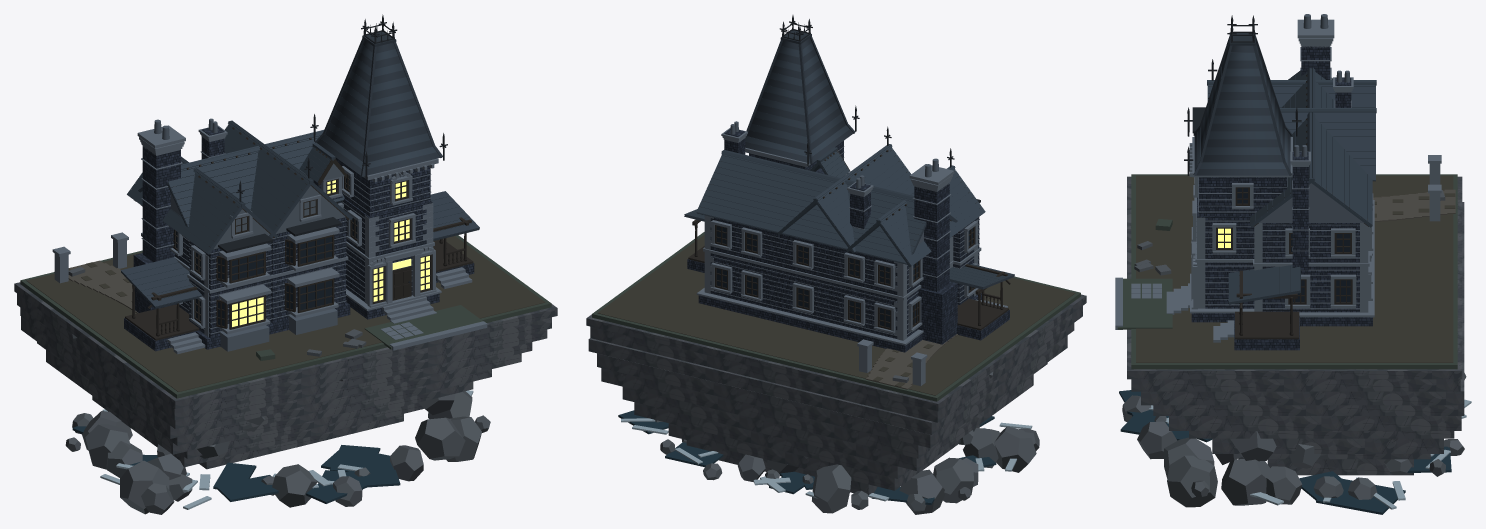
File: casa-da-costa-noturna.glb
3 views of the same model, side by side, from view 1: azimuth 30°, elevation 25°; view 2: azimuth 150°, elevation 25°; view 3: azimuth 270°, elevation 25° (orthographic). The views are drawn at different scales.
Visible parts, largest first — view 1: terra-batida, rochedo (×10), fiada-do-corucheu (×9), estrato-1, borda-rochosa, estrato-3, estrato-2, estrato-5, terreno, estrato-4, pocas-de-mar (×4), fuste-chamine (+14 smaller); view 2: terra-batida, fiada-de-telhas (×11), rochedo (×6), estrato-3, estrato-2, estrato-1, estrato-5, fiada-do-corucheu (×8), borda-rochosa, parede-pedra, estrato-4, terreno (+13 smaller); view 3: terra-batida, rochedo (×9), fiada-do-corucheu (×13), borda-rochosa, estrato-2, estrato-4, estrato-1, terreno, fiada-de-telhas (×7), estrato-3, estrato-6, parede-torre-3 (+22 smaller).
Part boxes in pixels (x1,y1,x2,y2): terra-batida: [26, 236, 545, 391]; rochedo (×10): [85, 391, 481, 514]; fiada-do-corucheu (×9): [317, 90, 440, 176]; estrato-1: [17, 293, 551, 420]; borda-rochosa: [14, 282, 557, 408]; estrato-3: [21, 316, 532, 438]; estrato-2: [20, 307, 547, 428]; estrato-5: [46, 350, 491, 454]; terreno: [20, 235, 551, 398]; estrato-4: [37, 342, 521, 445]; pocas-de-mar (×4): [213, 446, 400, 501]; fuste-chamine: [142, 147, 180, 262]; terra-batida: [597, 235, 1075, 395]; fiada-de-telhas (×11): [696, 149, 926, 263]; rochedo (×6): [737, 426, 1036, 514]; estrato-3: [597, 335, 1067, 448]; estrato-2: [588, 323, 1074, 434]; estrato-1: [590, 306, 1082, 422]; estrato-5: [622, 374, 1033, 470]; fiada-do-corucheu (×8): [745, 90, 853, 163]; borda-rochosa: [586, 294, 1086, 411]; parede-pedra: [710, 253, 918, 338]; estrato-4: [601, 363, 1047, 458]; terreno: [592, 232, 1080, 401]; terra-batida: [1136, 175, 1453, 362]; rochedo (×9): [1137, 421, 1377, 507]; fiada-do-corucheu (×13): [1194, 61, 1290, 175]; borda-rochosa: [1127, 176, 1462, 379]; estrato-2: [1141, 202, 1464, 405]; estrato-4: [1169, 416, 1461, 430]; estrato-1: [1131, 379, 1460, 391]; terreno: [1131, 174, 1457, 369]; fiada-de-telhas (×7): [1208, 72, 1375, 199]; estrato-3: [1153, 405, 1464, 415]; estrato-6: [1212, 438, 1443, 453]; parede-torre-3: [1198, 177, 1286, 216].
Bounding box in the file's own units: 30.48 × 33.13 × 23.36.
16 materials, 2 textured.
